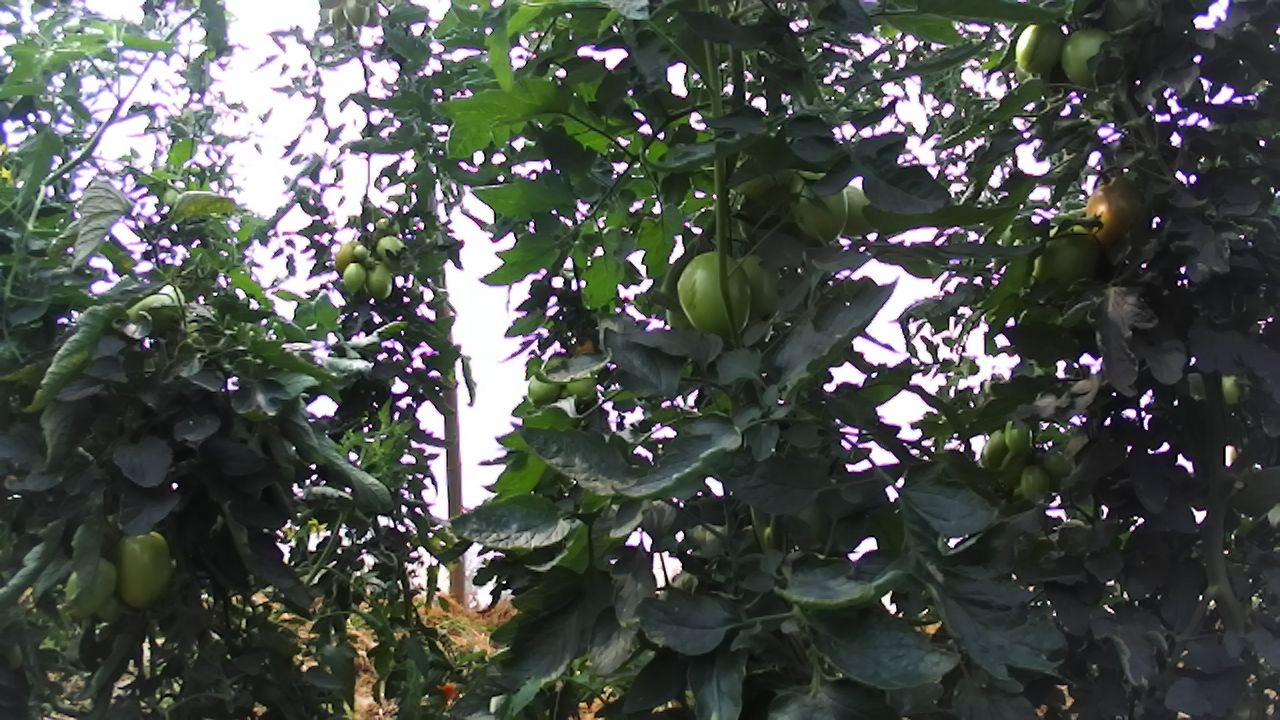tomato: (672, 242, 762, 349), (1072, 165, 1161, 251), (1024, 220, 1112, 296), (782, 160, 852, 251), (1051, 15, 1121, 94), (113, 528, 175, 614), (58, 549, 124, 623), (727, 248, 782, 324), (1012, 18, 1067, 75), (1018, 462, 1052, 504), (331, 236, 362, 279), (363, 260, 392, 301), (1001, 420, 1030, 457), (372, 231, 405, 261), (341, 262, 366, 296), (349, 239, 369, 261)
